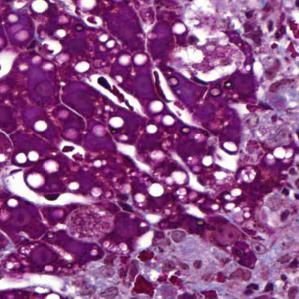ballooning: (177, 25, 247, 86)
